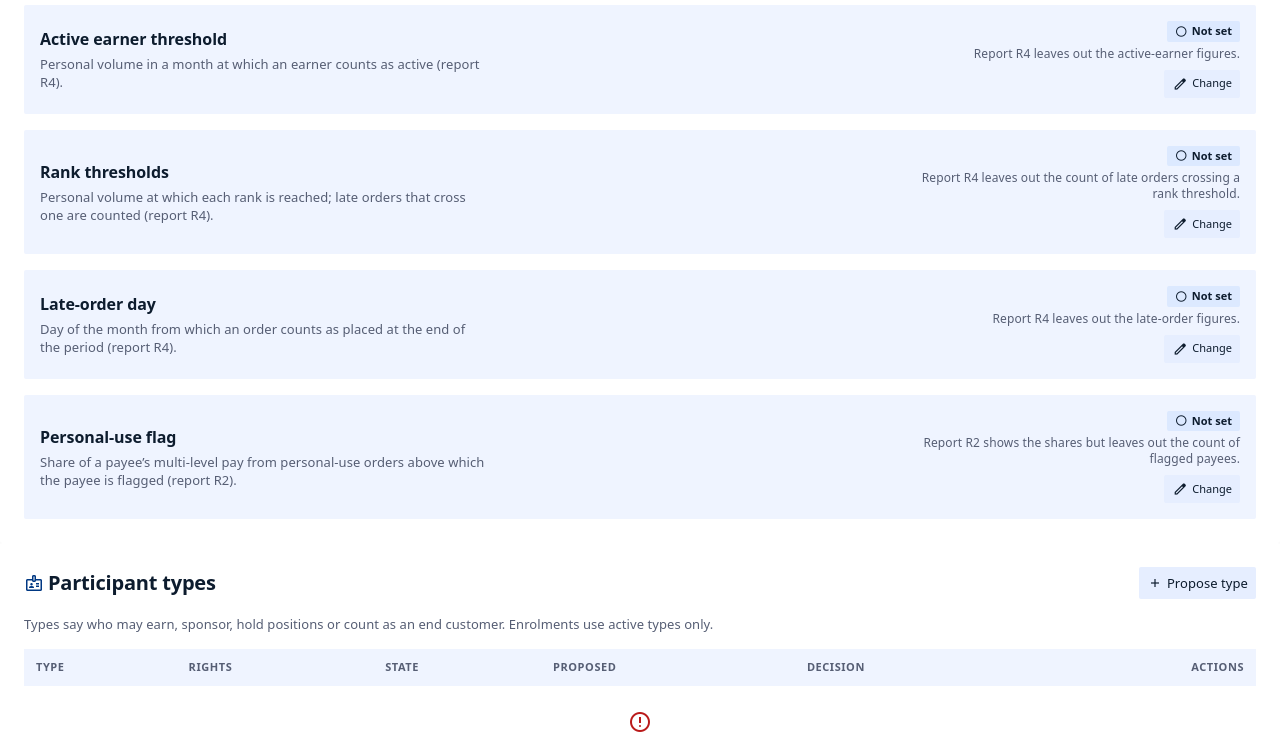
Test case: SettingsPage thresholds and contacts › opens an unset threshold empty and saves it with If-Match and a reason
(page scrolled)
Click the button with aria-label "Change late-order day" at (1202, 348), box [1164, 334, 1240, 362]
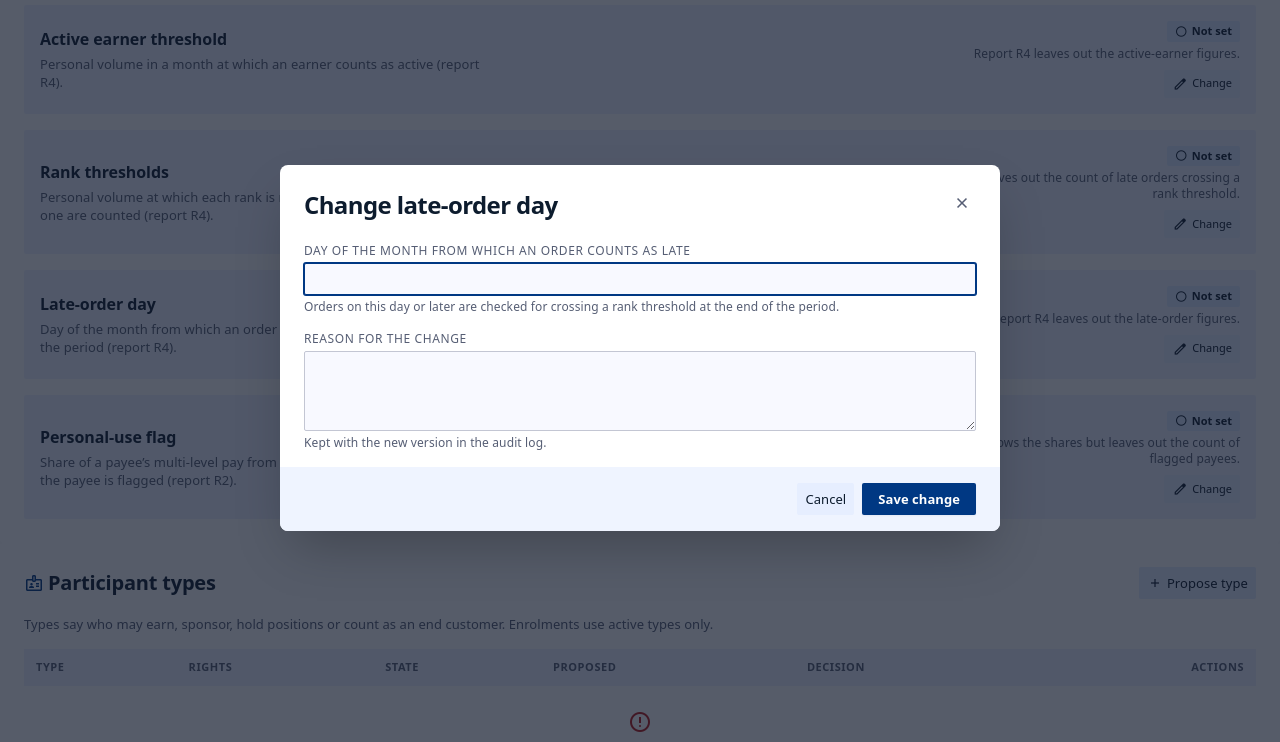
Type "25" into the field labelled "Day of the month from which an order counts as late" at (640, 279), box [304, 263, 976, 295]
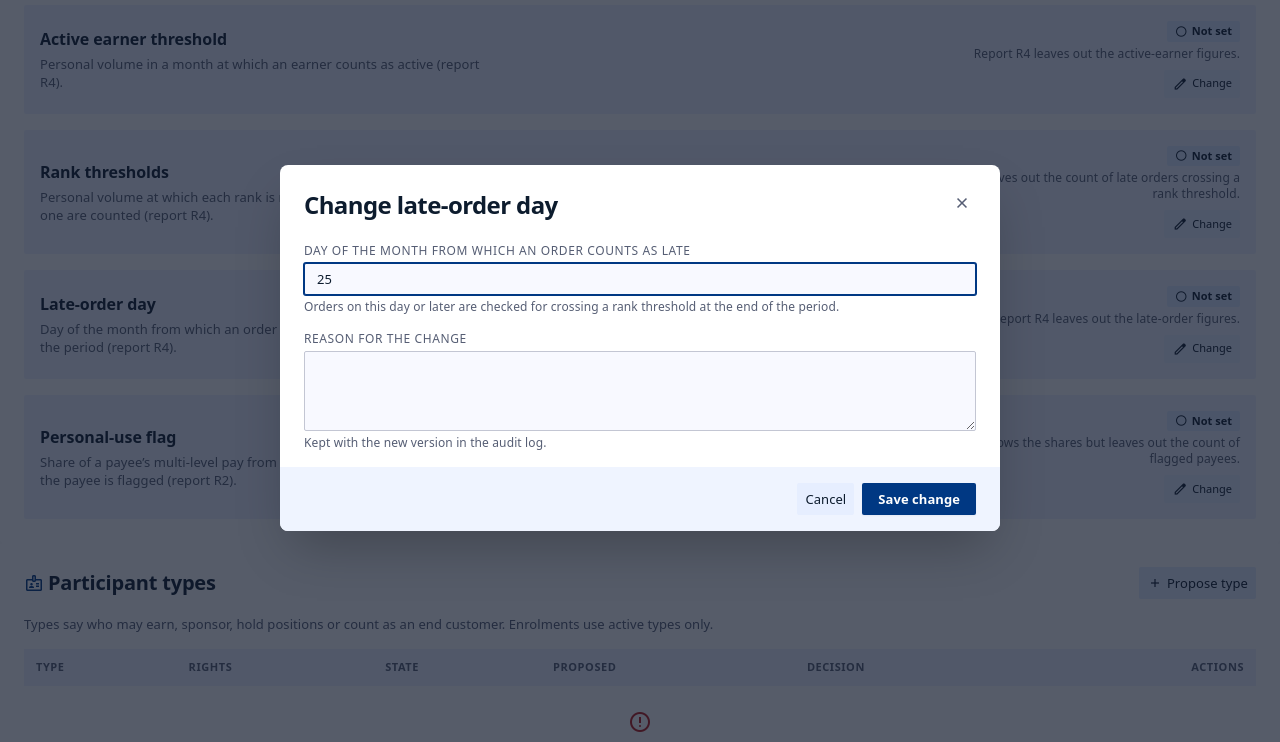
Type "Agreed with counsel" into the text box labelled "Reason for the change" at (640, 391), box [304, 351, 976, 431]
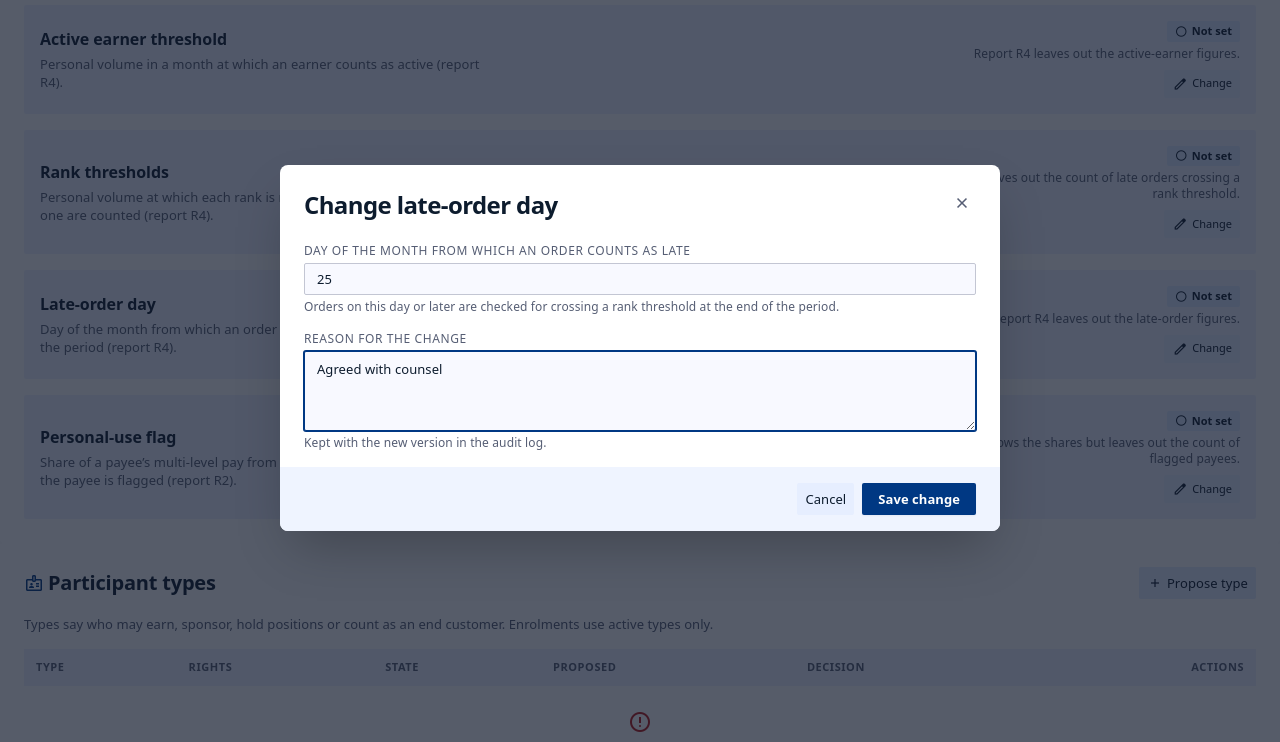
Click the button "Save change" at (919, 499), box [862, 483, 976, 515]
(page scrolled)
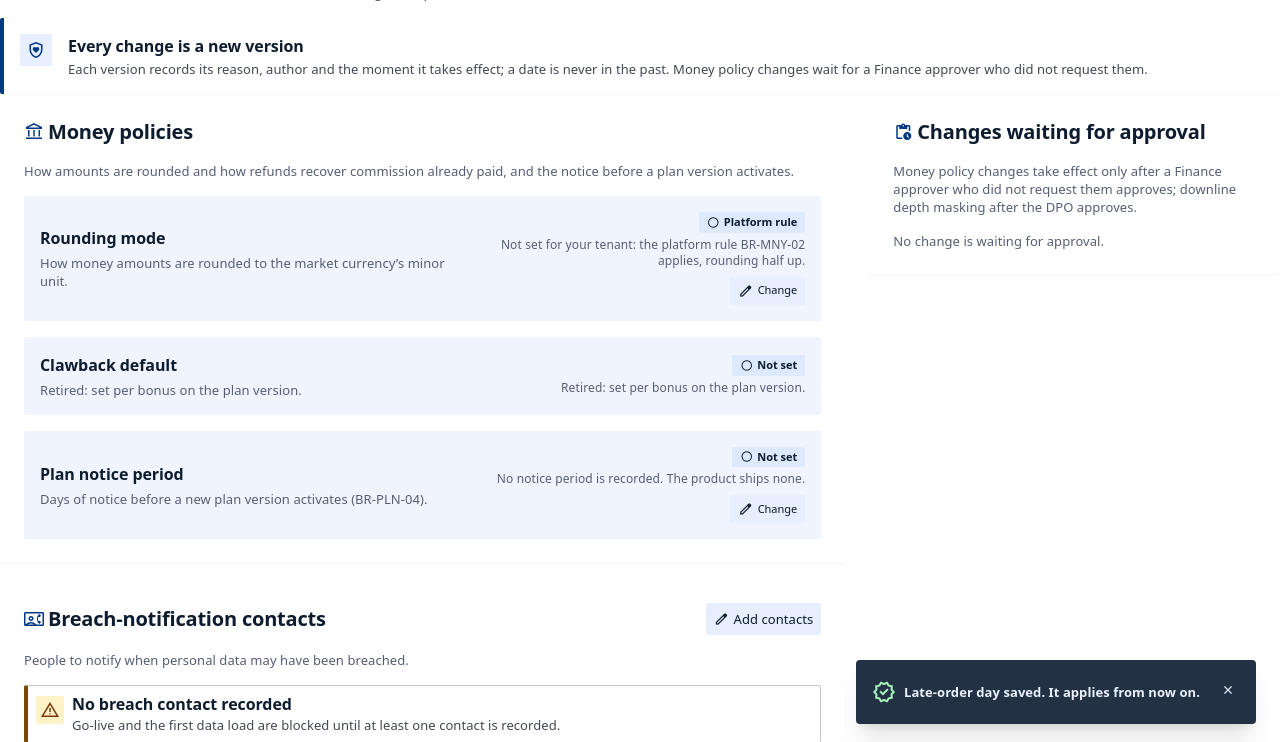
Check: the text "Late-order day saved. It applies from now on." is shown, box [904, 683, 1208, 701]
